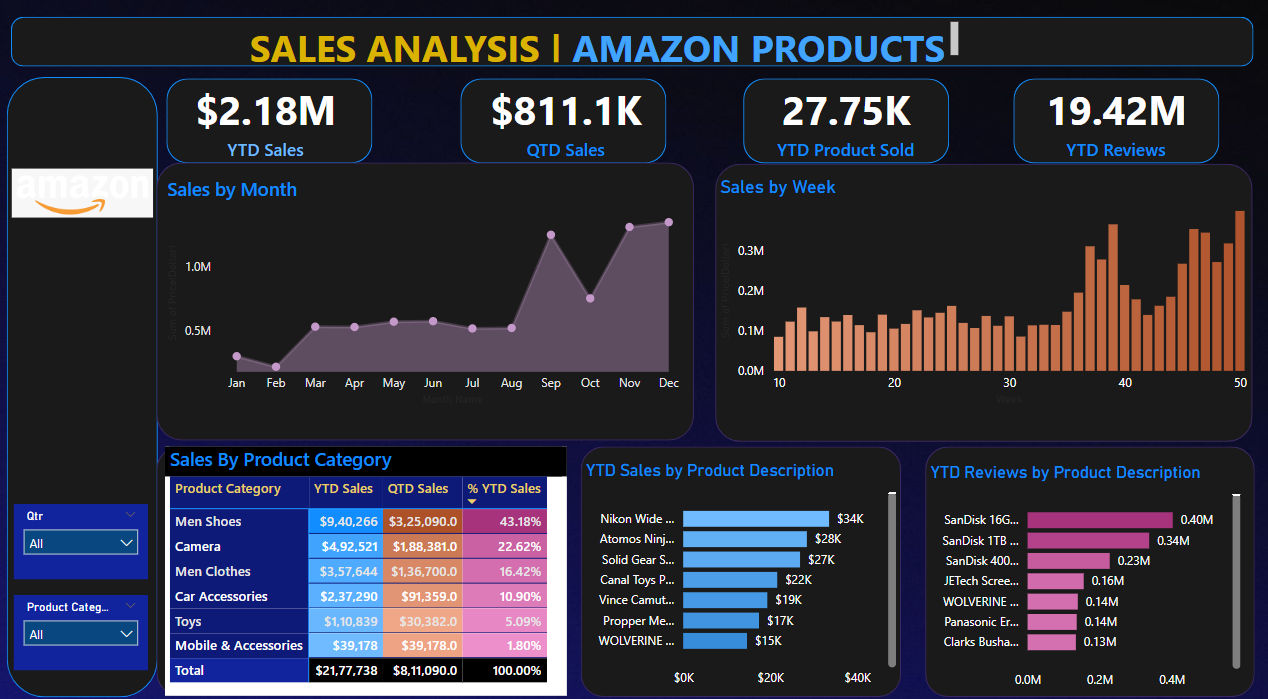

Layout of this report page (visuals, bound fields, positions):
{"tool":"powerbi","page":{"name":"Page 1","canvas":[1280,720],"ordinal":0},"visuals":[{"type":"shape","box":[171,78.3,207.2,85.5],"z":0,"group":"g1"},{"type":"shape","box":[14.6,16.7,1250,50],"z":0},{"type":"shape","box":[466.7,78.3,207.2,85.5],"z":1000,"group":"g1"},{"type":"textbox","box":[249.3,17.4,723.2,50.7],"z":1000},{"type":"shape","box":[750.7,78.3,207.2,85.5],"z":2000,"group":"g1"},{"type":"shape","box":[9.3,77.8,151.9,624.1],"z":2000},{"type":"shape","box":[1023.2,78.3,207.2,85.5],"z":3000,"group":"g1"},{"type":"group","id":"g1","title":"Group 1","box":[171,78.3,1059.4,85.5],"z":3000},{"type":"card","fields":{"Values":["Amazon_Data.YTD Sales"]},"box":[181.1,78.3,179.7,85.5],"z":4000,"group":"g1"},{"type":"shape","box":[160.9,163.8,540.6,279.7],"z":4000},{"type":"card","fields":{"Values":["Amazon_Data.QTD Sales"]},"box":[484,78.3,178.3,85.5],"z":5000,"group":"g1"},{"type":"areaChart","title":"Sales by Month","fields":{"Category":["Date Table.Month Name"],"Y":["Sum(Amazon_Data.Price(Dollar))"]},"box":[166.7,176.8,530.4,234.8],"z":5000},{"type":"card","fields":{"Values":["Amazon_Data.YTD Product Sold"]},"box":[760.9,78.3,187,85.5],"z":6000,"group":"g1"},{"type":"shape","box":[723.2,165.2,540.6,279.7],"z":6000},{"type":"card","fields":{"Values":["Amazon_Data.YTD Reviews"]},"box":[1033.3,78.3,187,85.5],"z":7000,"group":"g1"},{"type":"columnChart","title":"Sales by Week","fields":{"Category":["Date Table.Week"],"Y":["Sum(Amazon_Data.Price(Dollar))"]},"box":[723.2,176.8,540.6,234.8],"z":7000},{"type":"shape","box":[160.9,449.3,413,250.7],"z":8000},{"type":"pivotTable","title":"Sales By Product Category","fields":{"Rows":["Amazon_Data.Product Category"],"Values":["Amazon_Data.YTD Sales1","Amazon_Data.QTD Sales","Amazon_Data.YTD Sales"]},"box":[169.6,449.3,404.3,250.7],"z":9000},{"type":"shape","box":[587,450,322.2,251.9],"z":10000},{"type":"shape","box":[933.3,450,331.5,251.9],"z":11000},{"type":"barChart","fields":{"Y":["Amazon_Data.YTD Sales"],"Category":["Amazon_Data.Product Description"]},"box":[587,463,322.2,237],"z":12000},{"type":"barChart","fields":{"Category":["Amazon_Data.Product Description"],"Y":["Amazon_Data.YTD Reviews"]},"box":[933.3,464.8,322.2,237],"z":13000},{"type":"slicer","fields":{"Values":["Amazon_Data.Product Category"]},"box":[16.7,598.1,135.2,75.9],"z":14000},{"type":"slicer","fields":{"Values":["Date Table.Qtr"]},"box":[16.7,507.4,135.2,75.9],"z":14001},{"type":"image","box":[9.3,77.8,151.9,233.3],"z":14002}]}

Visuals, with their boxes in screenshot pixels (x1, y1, x2, y2), scaled from the page's 1280x720 canvas onto the 1268x699 screenshot:
shape: [x1=169, y1=76, x2=375, y2=159]
shape: [x1=14, y1=16, x2=1253, y2=65]
shape: [x1=462, y1=76, x2=668, y2=159]
textbox: [x1=247, y1=17, x2=963, y2=66]
shape: [x1=744, y1=76, x2=949, y2=159]
shape: [x1=9, y1=76, x2=160, y2=681]
shape: [x1=1014, y1=76, x2=1219, y2=159]
"Group 1" group: [x1=169, y1=76, x2=1219, y2=159]
card - Amazon_Data.YTD Sales: [x1=179, y1=76, x2=357, y2=159]
shape: [x1=159, y1=159, x2=695, y2=431]
card - Amazon_Data.QTD Sales: [x1=479, y1=76, x2=656, y2=159]
"Sales by Month" areaChart: [x1=165, y1=172, x2=691, y2=400]
card - Amazon_Data.YTD Product Sold: [x1=754, y1=76, x2=939, y2=159]
shape: [x1=716, y1=160, x2=1252, y2=432]
card - Amazon_Data.YTD Reviews: [x1=1024, y1=76, x2=1209, y2=159]
"Sales by Week" columnChart: [x1=716, y1=172, x2=1252, y2=400]
shape: [x1=159, y1=436, x2=569, y2=680]
"Sales By Product Category" pivotTable: [x1=168, y1=436, x2=569, y2=680]
shape: [x1=581, y1=437, x2=901, y2=681]
shape: [x1=925, y1=437, x2=1253, y2=681]
barChart - Amazon_Data.YTD Sales x Amazon_Data.Product Description: [x1=581, y1=449, x2=901, y2=680]
barChart - Amazon_Data.Product Description x Amazon_Data.YTD Reviews: [x1=925, y1=451, x2=1244, y2=681]
slicer - Amazon_Data.Product Category: [x1=17, y1=581, x2=150, y2=654]
slicer - Date Table.Qtr: [x1=17, y1=493, x2=150, y2=566]
image: [x1=9, y1=76, x2=160, y2=302]
